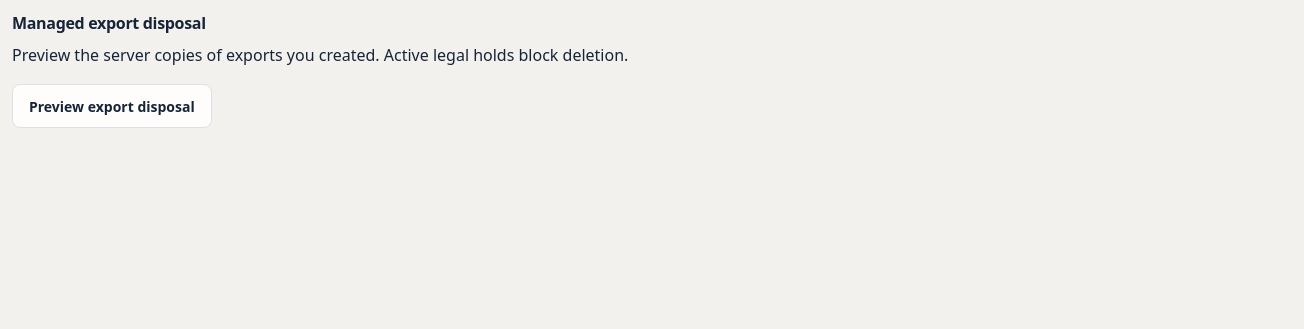
requires a checked confirmation before deleting eligible copies
The width and height of the screenshot is (1304, 329).
What coordinates should you click on to do the following:
click the button "Preview export disposal"
I would click on:
 (112, 106)
Its box is [12,84,212,128].
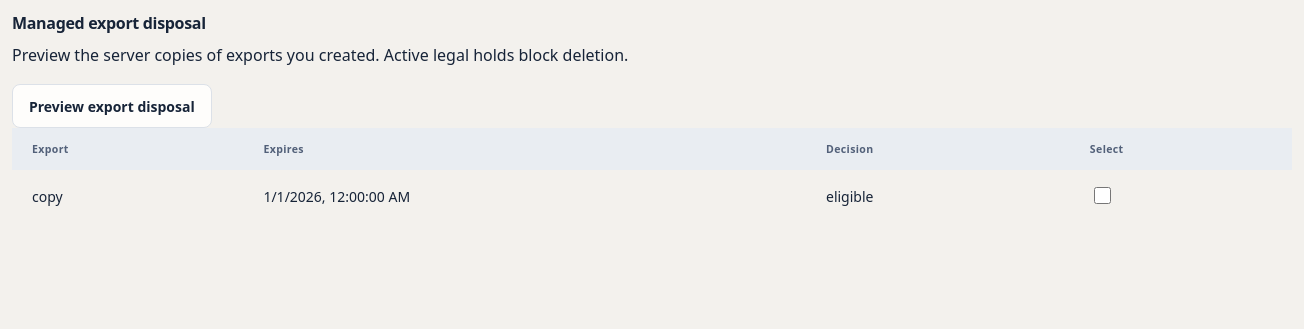
What coordinates should you click on to do the following:
click the checkbox named "Select export copy"
I would click on:
 (1102, 196)
Its box is [1094,187,1111,204].
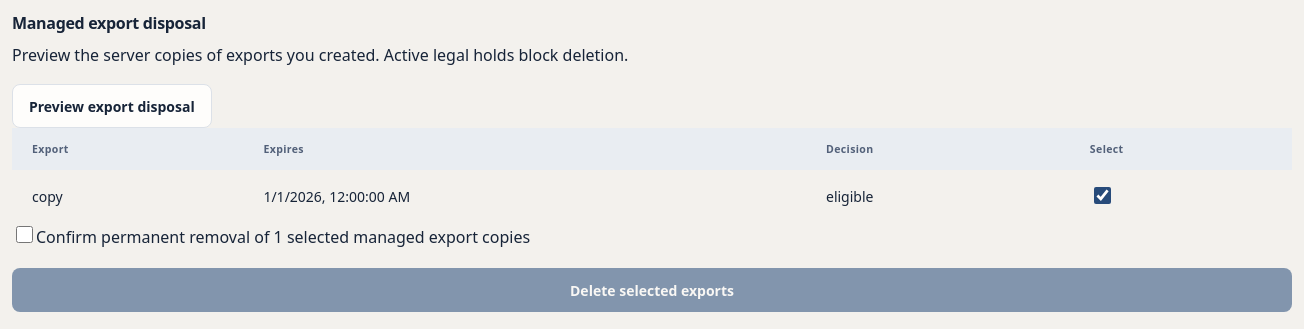
Expected: the button "Delete selected exports" is disabled, [12,268,1292,312]
What coordinates should you click on to do the following:
click the checkbox labelled "Confirm permanent removal"
I would click on:
 (24, 235)
Its box is [16,226,33,243].
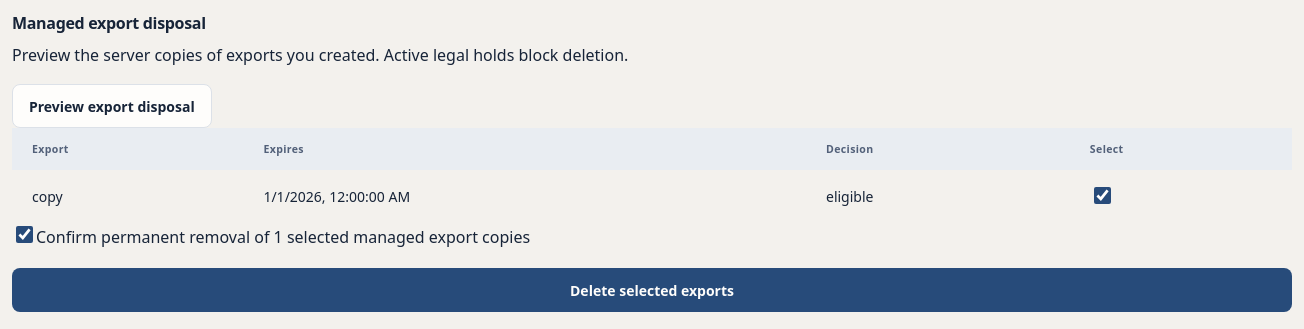
What coordinates should you click on to do the following:
click the button "Delete selected exports"
I would click on:
 (652, 290)
Its box is [12,268,1292,312].
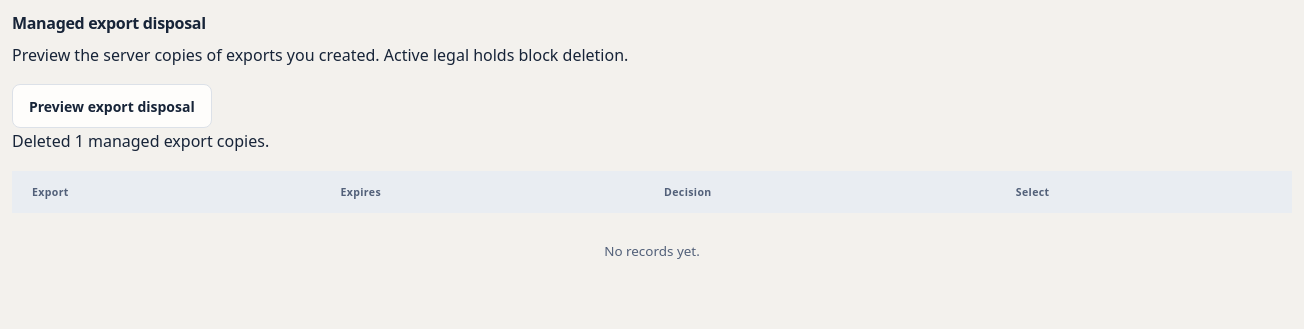
Expected: the text "Deleted 1 managed export copies." is shown, [12,130,269,152]
